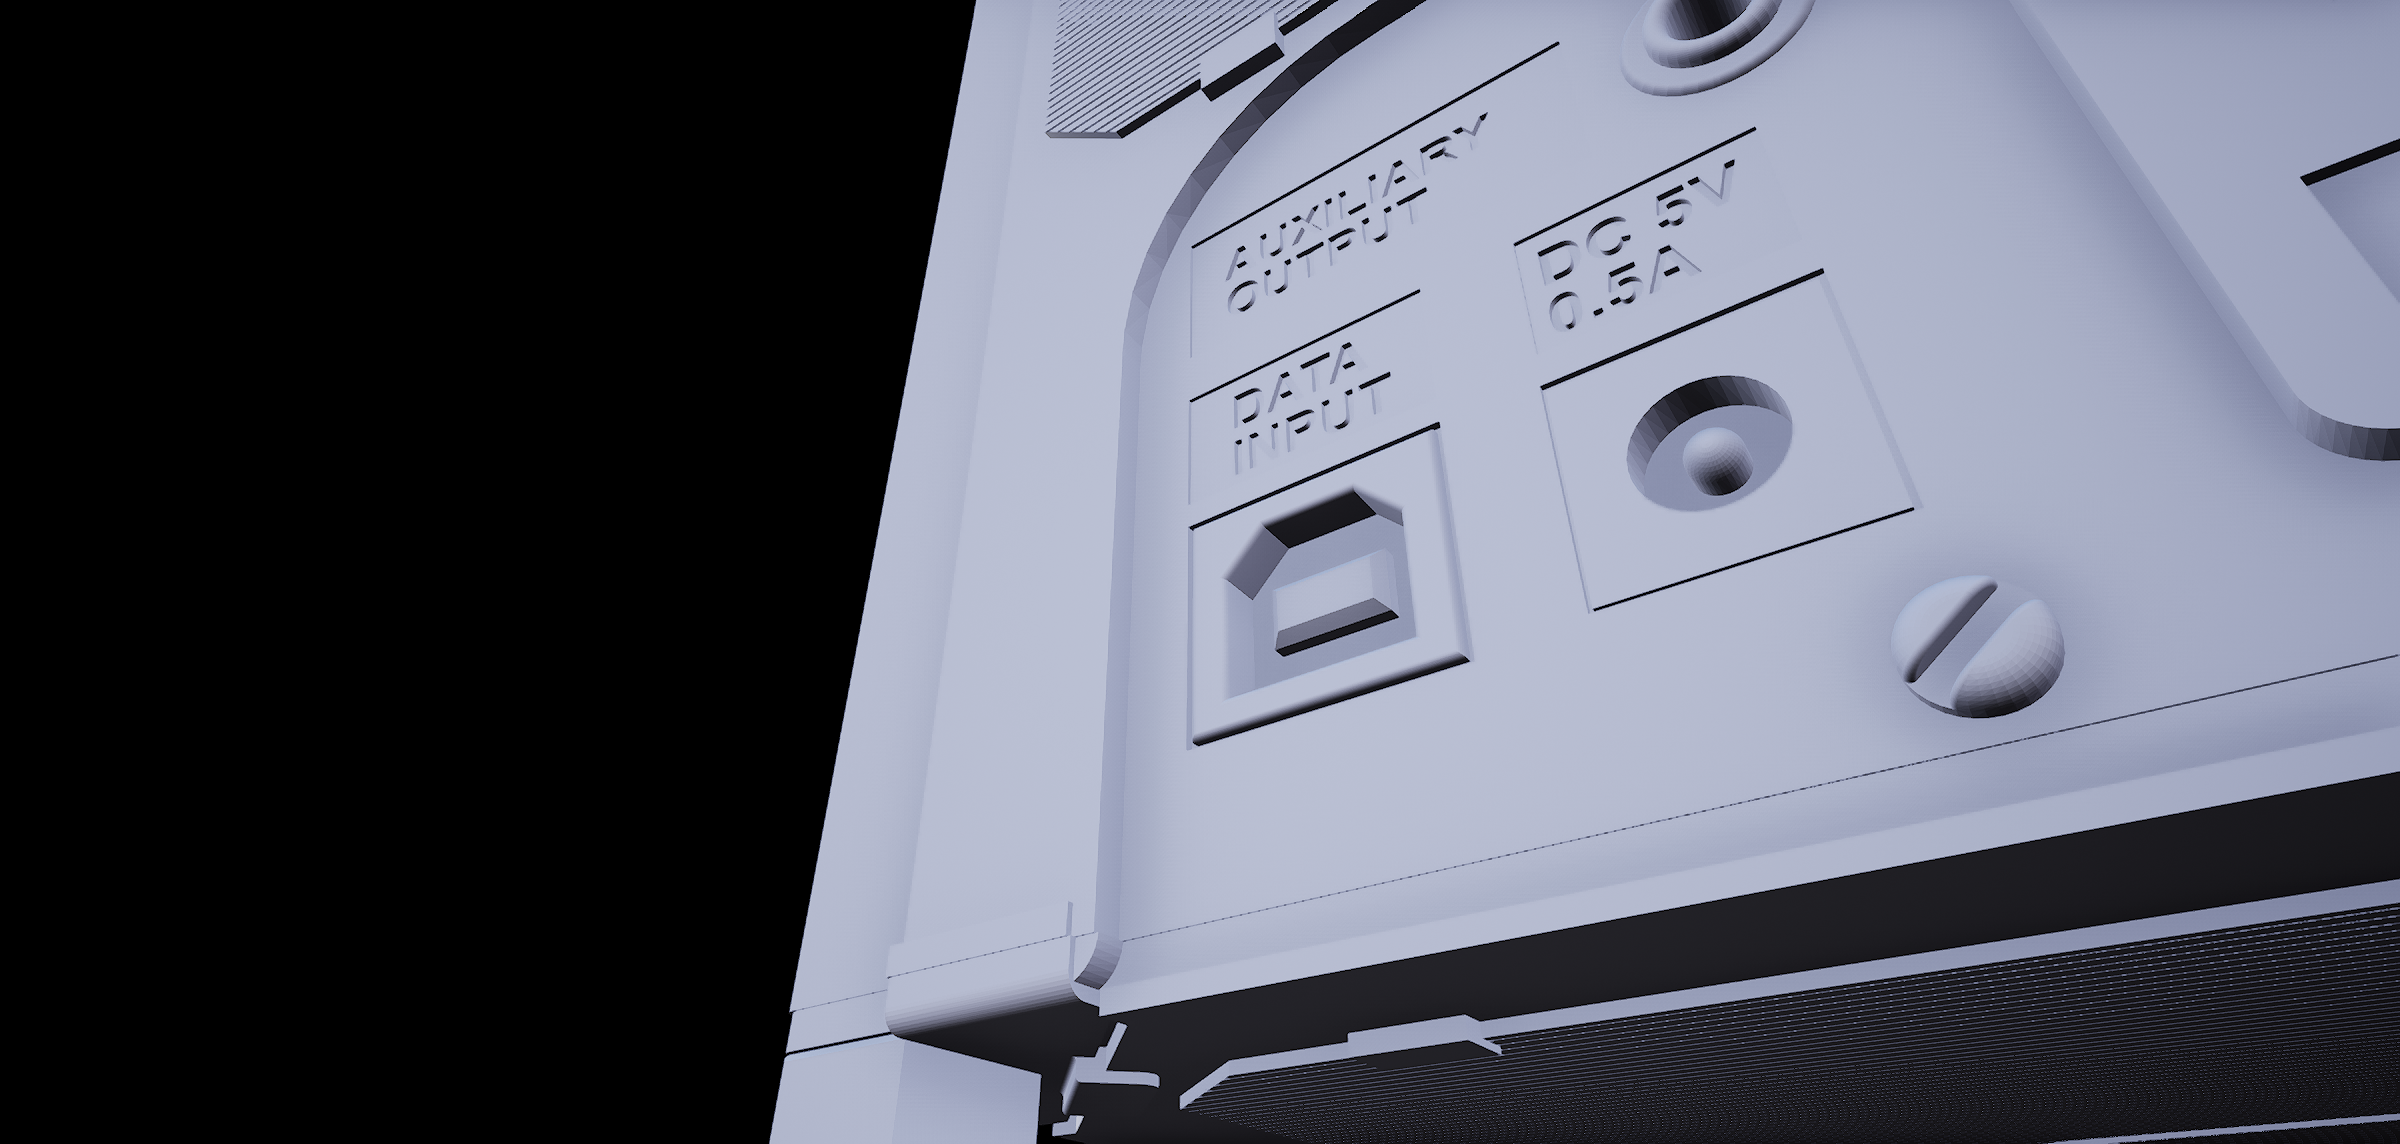aux: (1616, 2, 1834, 109)
dc: (1609, 371, 1815, 521)
usb: (1203, 499, 1437, 678)
